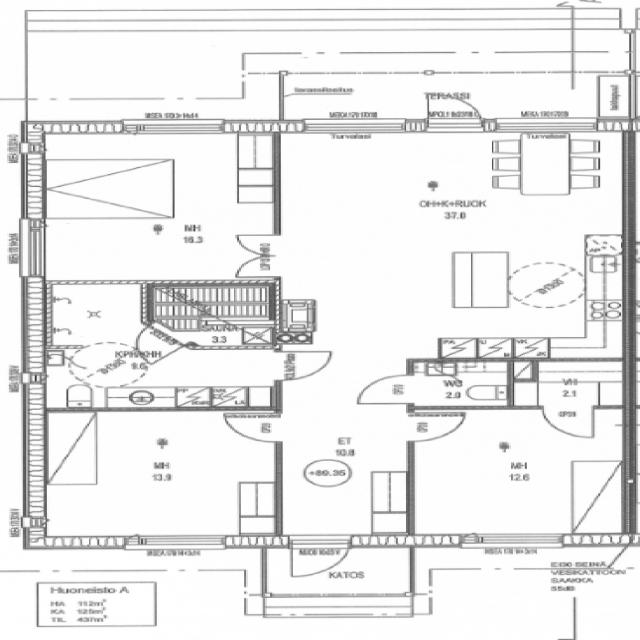door: (263, 343, 340, 384), (282, 536, 350, 582), (222, 231, 282, 281), (421, 92, 493, 133), (213, 406, 287, 445), (351, 372, 419, 406), (402, 409, 471, 442), (541, 406, 597, 441)
window: (484, 113, 606, 137), (15, 212, 56, 282), (118, 116, 232, 138), (456, 531, 566, 553), (297, 117, 412, 138), (123, 533, 231, 553), (278, 607, 406, 622)
zone: (278, 134, 505, 368), (279, 130, 628, 254), (37, 128, 276, 282), (32, 407, 279, 543), (410, 406, 604, 541), (33, 138, 238, 220), (264, 536, 407, 613), (36, 338, 174, 408), (40, 279, 151, 350), (149, 279, 274, 336), (506, 356, 635, 410), (404, 358, 512, 410)
